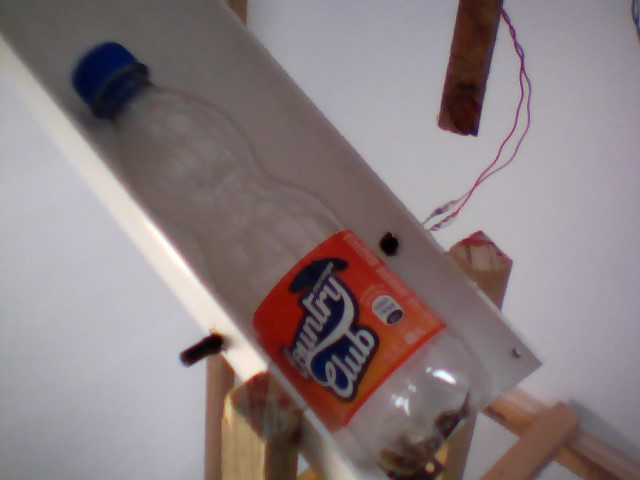plastico: (59, 34, 506, 480)
